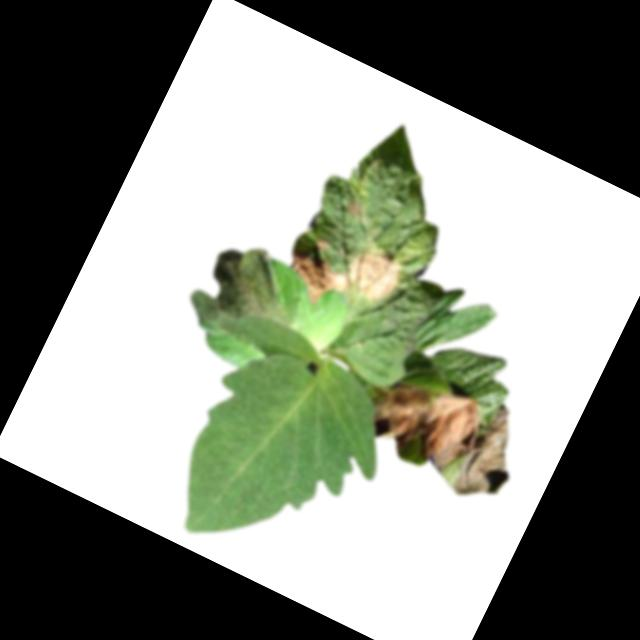Late_blight: (349, 351, 537, 512), (181, 228, 318, 361), (276, 215, 408, 333), (348, 198, 367, 215)
